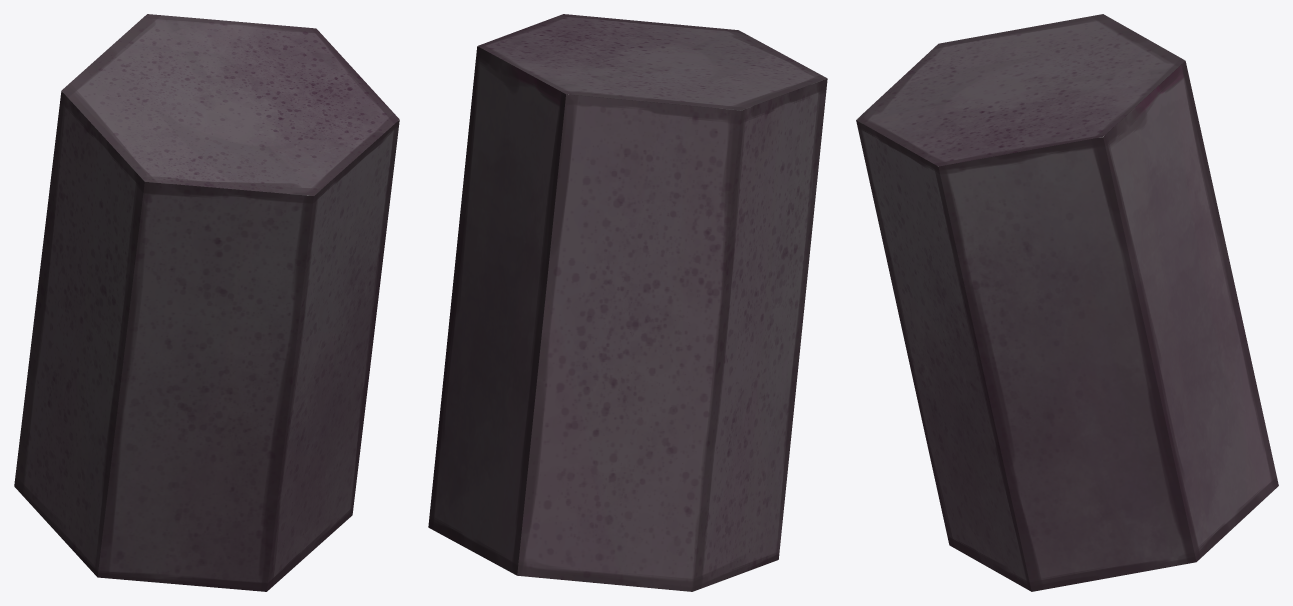
File: Rock.fbx
3 renders of one model, left to right at view 1: azimuth 30°, elevation 25°; view 2: azimuth 150°, elevation 25°; view 3: azimuth 270°, elevation 25°, orthographic. The views are drawn at different scales.
Parts seen in each view (by area): view 1: Rock; view 2: Rock; view 3: Rock.
Part boxes in pixels (x1,y1,x2,y2): Rock: (14, 14, 399, 591); Rock: (428, 14, 827, 591); Rock: (856, 14, 1278, 591).
Size of the model in its own units: 742 by 1364 by 1078.
